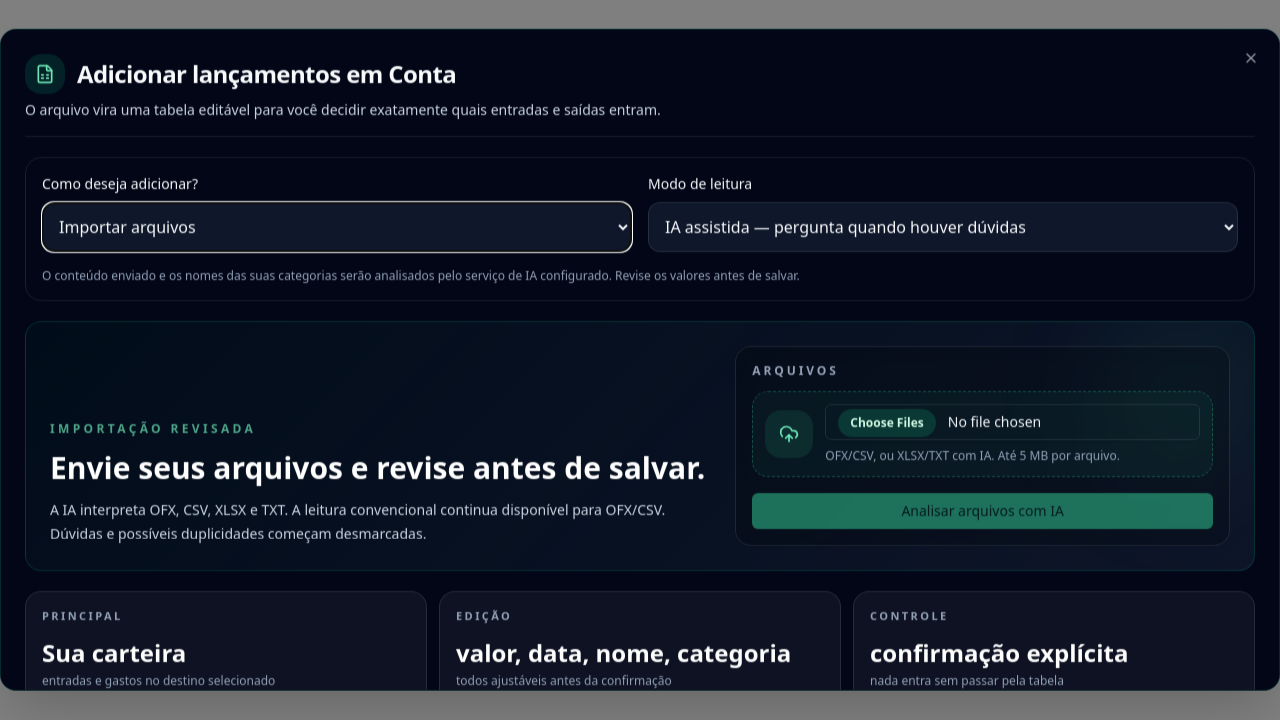
Test: ImportStatementModal › offers automatic analysis with confirmation
This screenshot has width=1280, height=720.
Select "Descrever em texto" in the dropdown labelled "Como deseja adicionar?": (337,227) [42, 202, 632, 252]
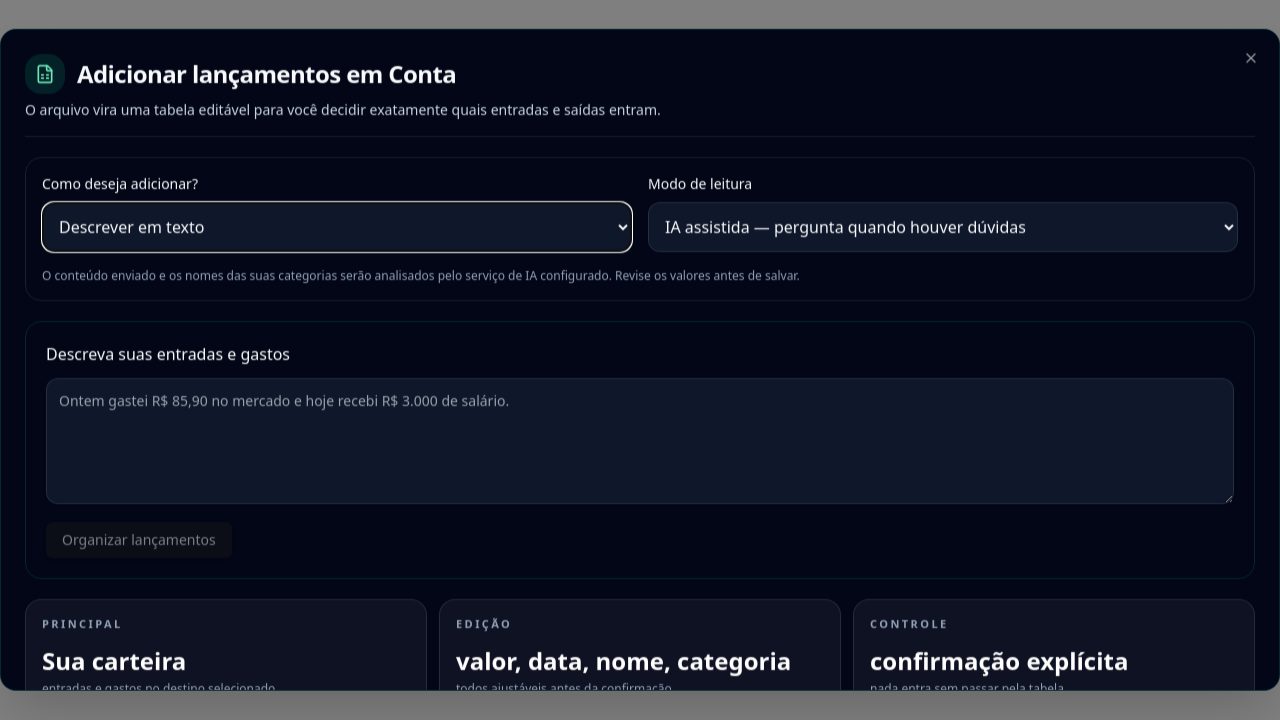
Replace the text in the text box labelled "Descreva suas entradas e gastos" with "Ontem gastei 85,90 no mercado.": (640,441) [46, 378, 1234, 504]
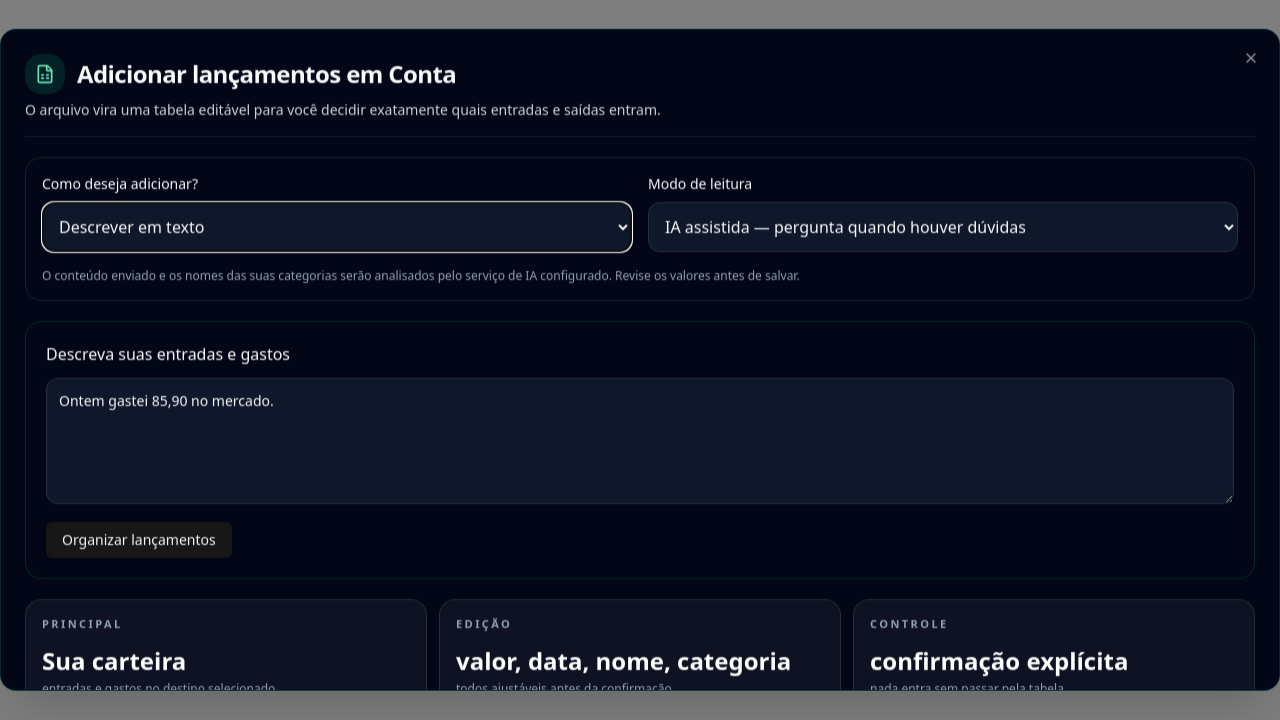
Select "IA automática — prepara a prévia sem perguntas" in the dropdown labelled "Modo de leitura": (943,227) [648, 202, 1238, 252]
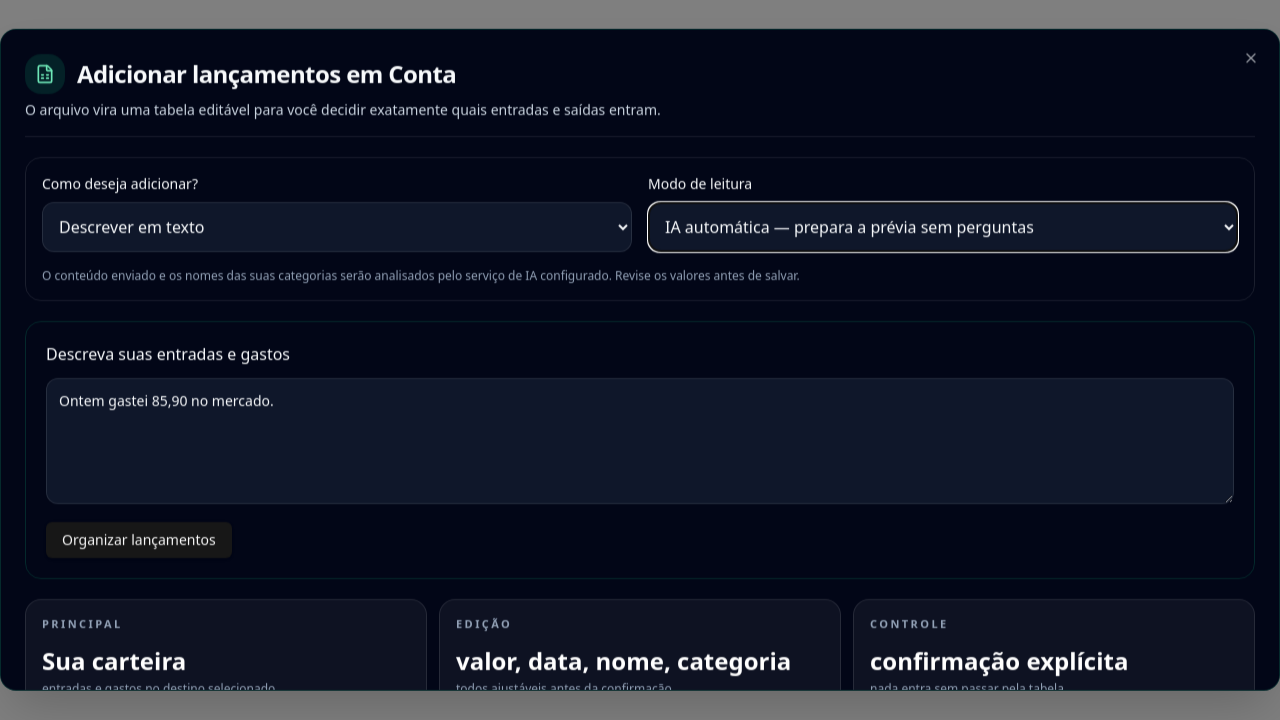
Click the button "Organizar lançamentos": (139,540) [46, 522, 232, 558]
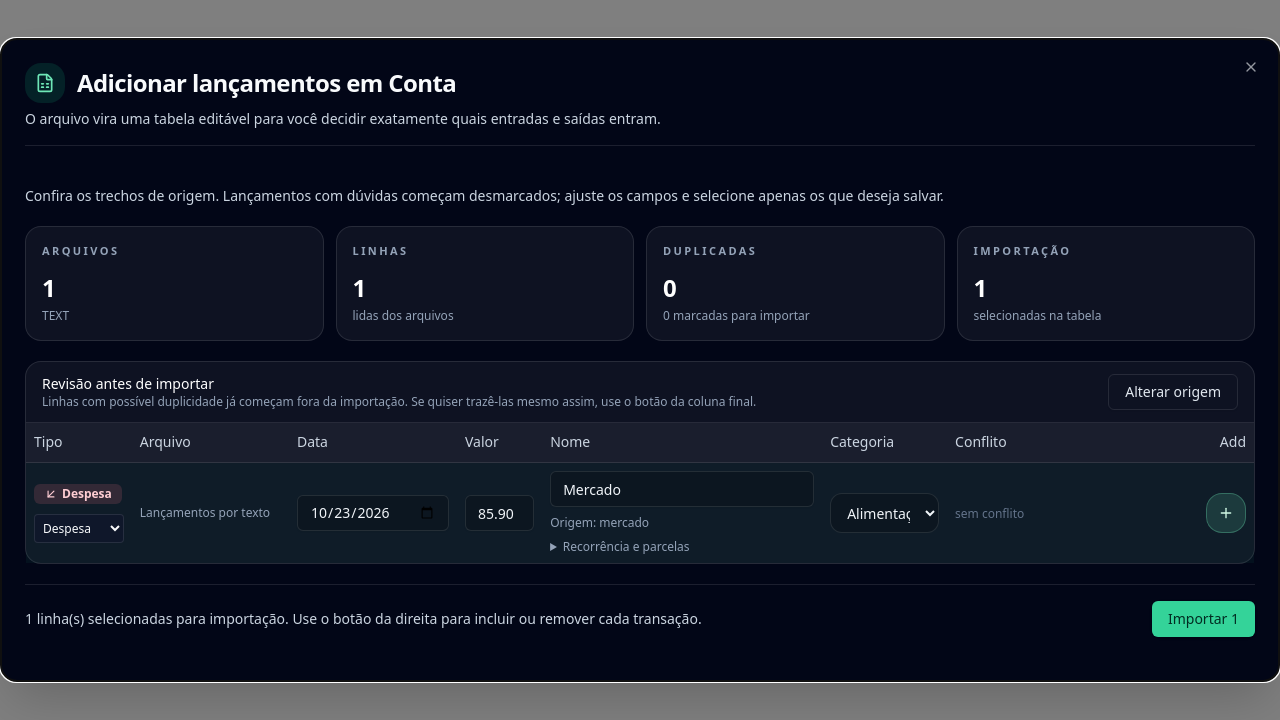
Expected: the text "Origem: mercado" is shown, [550, 514, 649, 531]
